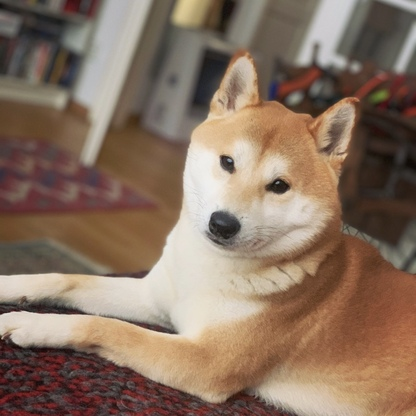shiba: (1, 45, 416, 415)
